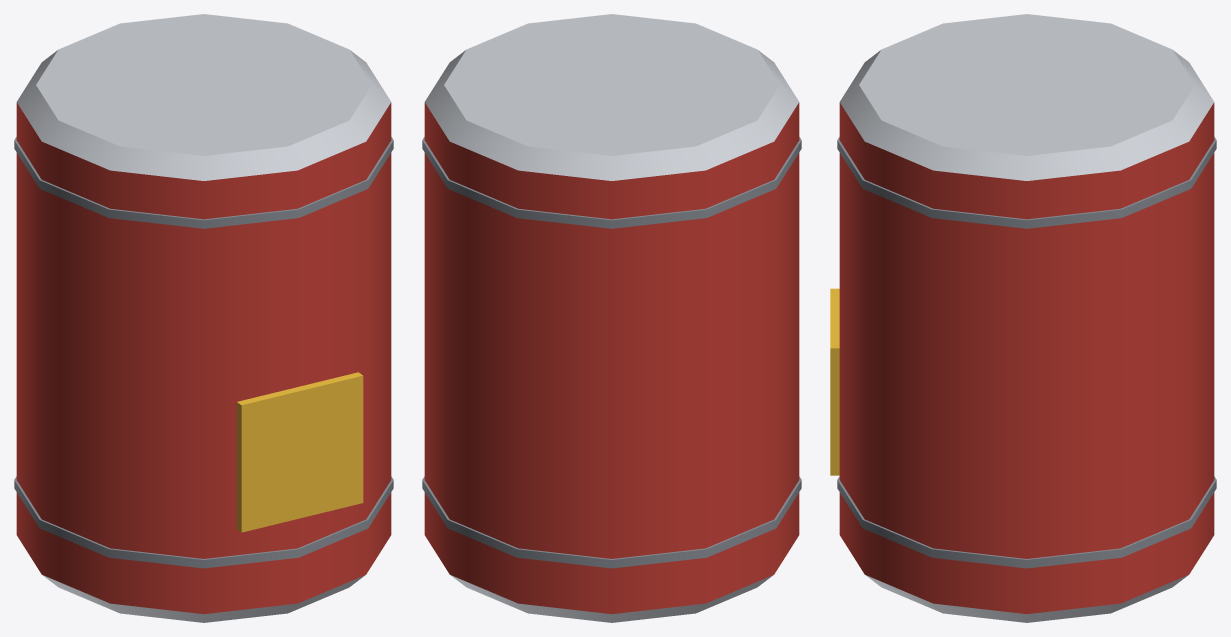
The model's file is SM_Tin_Can.glb.
The picture shows the model from 3 angles, left to right: view 1: azimuth 30°, elevation 25°; view 2: azimuth 150°, elevation 25°; view 3: azimuth 270°, elevation 25°; orthographic projection.
Visible parts, largest first — view 1: SM_Tin_Can; view 2: SM_Tin_Can; view 3: SM_Tin_Can.
Part boxes in pixels (<box>): SM_Tin_Can: <box>14,14,393,622</box>; SM_Tin_Can: <box>422,14,801,622</box>; SM_Tin_Can: <box>830,14,1216,622</box>.
Size of the model in its own units: 0.081 by 0.11 by 0.0825.
1 material, 1 textured.
